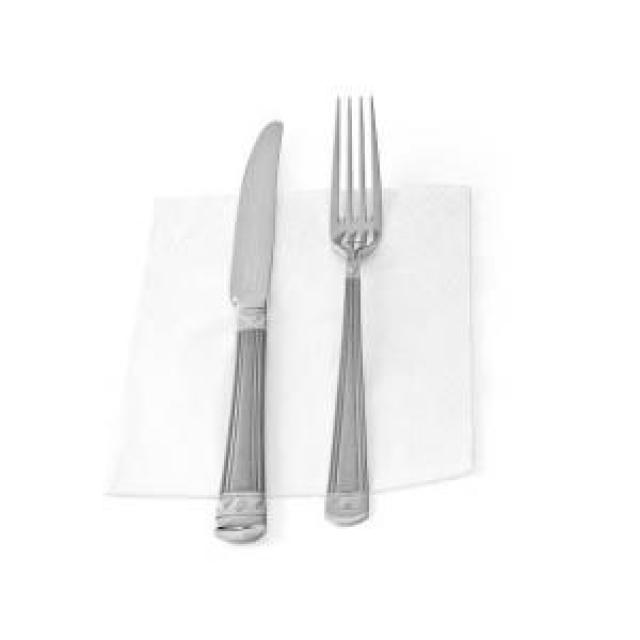knife: (216, 124, 289, 544)
